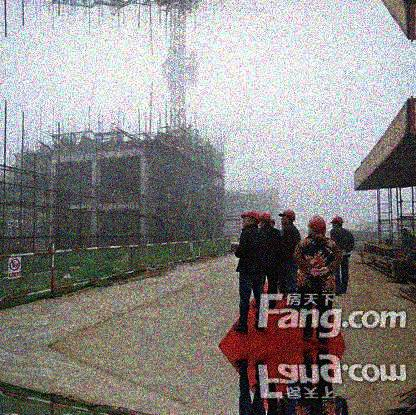helmet: (308, 216, 327, 241), (241, 210, 260, 228), (279, 209, 296, 227), (331, 215, 344, 231), (259, 212, 271, 227)
